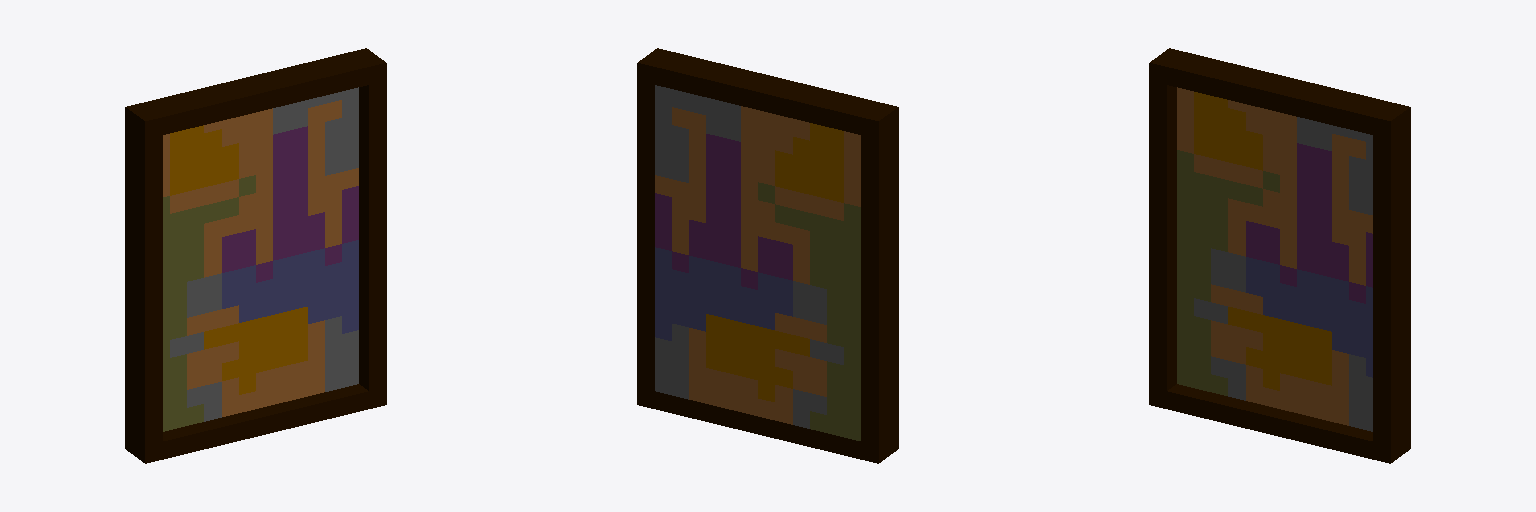
3 renders of one model, left to right at view 1: azimuth 30°, elevation 25°; view 2: azimuth 150°, elevation 25°; view 3: azimuth 330°, elevation 25°, orthographic.
Parts seen in each view (by area): view 1: quadro2; view 2: quadro2; view 3: quadro2.
Boxes of the visible parts, <box> form: quadro2: <box>125,48,386,463</box>; quadro2: <box>637,48,898,463</box>; quadro2: <box>1149,48,1410,463</box>.
Size of the model in its own units: 14 by 19 by 2.
Materials: 1 (1 with a texture image).